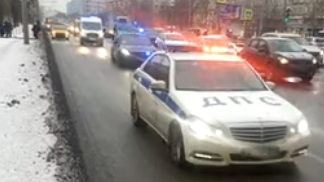ambulance: (78, 16, 105, 48)
non emergency car: (238, 35, 317, 83), (111, 31, 156, 69), (157, 32, 189, 49), (50, 23, 71, 41)
police car: (132, 44, 310, 168)
